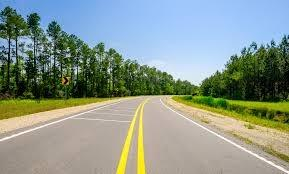field: (172, 95, 288, 131)
road: (0, 96, 283, 173)
